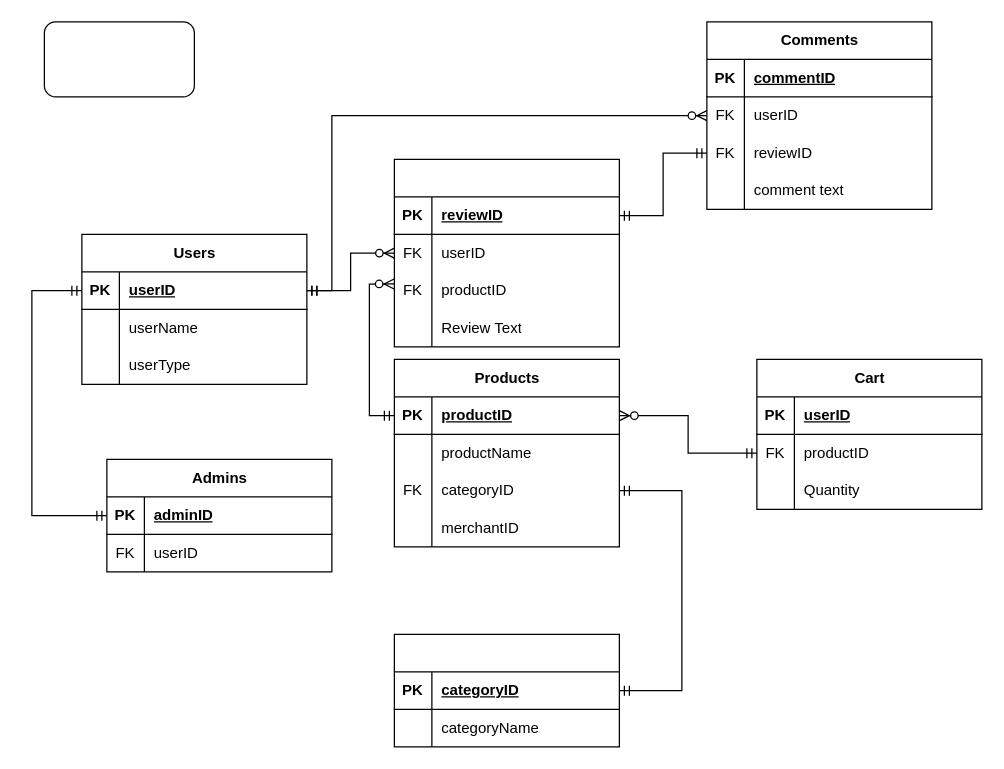
Some shapes in this 1004 by 769 pixel diagram are drawn without their labels. The shapes that lost their labels are listed below. From the top down, each one's box as (x1, y1, x2, y2) in pixels, then its label:
(43, 21, 194, 97): Full E-Commerce Product Design
(393, 158, 619, 347): Reviews
(393, 633, 619, 747): Categories
